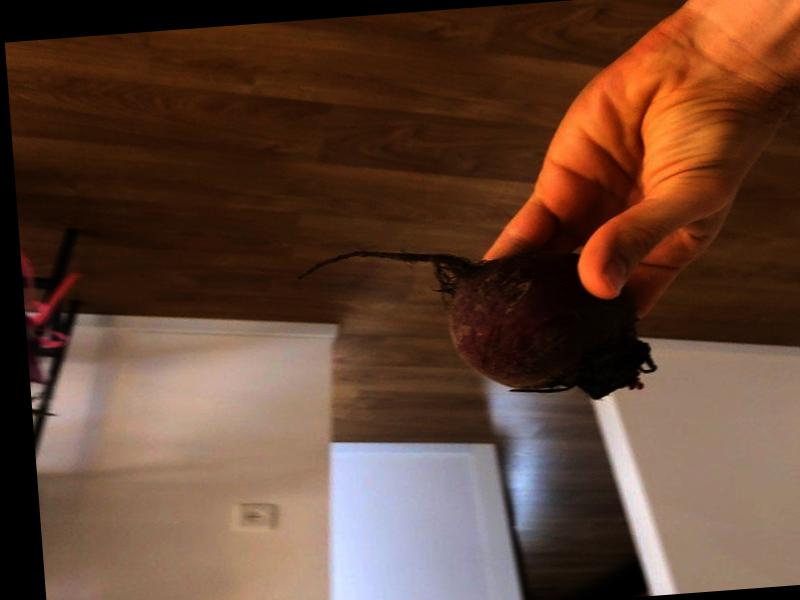Beet: (293, 231, 653, 419)
